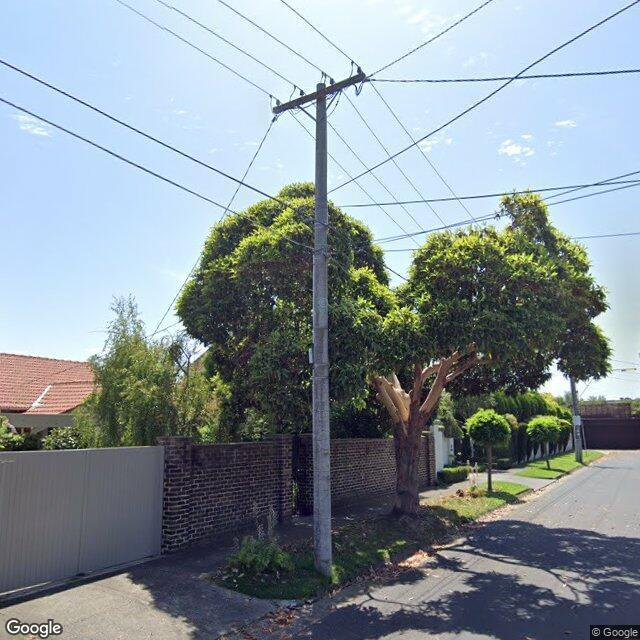crossarm: (270, 61, 365, 121)
timber-pole: (313, 82, 332, 574), (571, 377, 583, 462)
